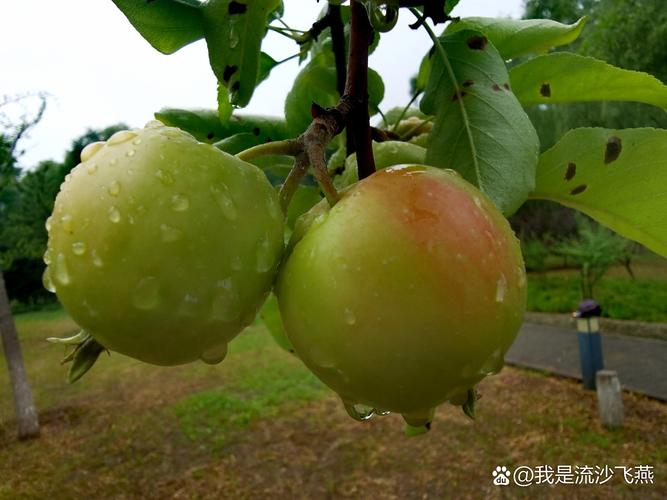unripe: (270, 156, 537, 434), (26, 120, 290, 395)
